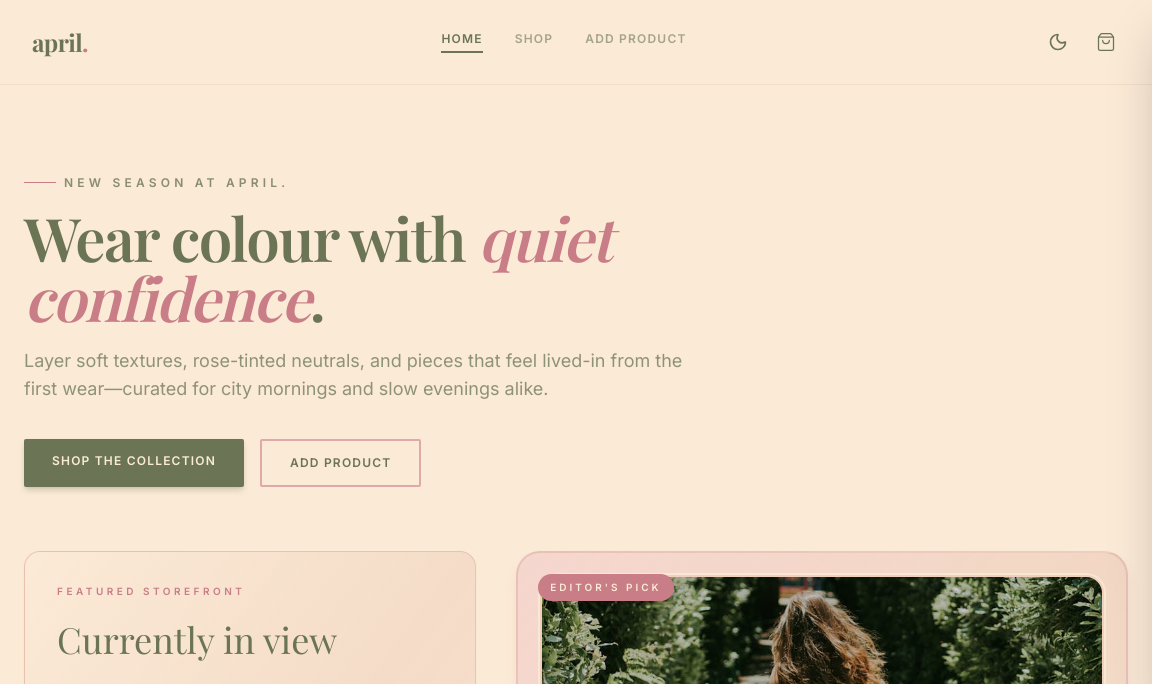
Test: App routing and product pages › renders home page and navigates between routes
The width and height of the screenshot is (1152, 684).
Expected: the text "New season at april." is shown, [64,174,289,190]
Expected: the link "Shop the collection" is shown, [24,438,244,486]
Click the link "Shop" at [534, 42], box [515,31,553,53]
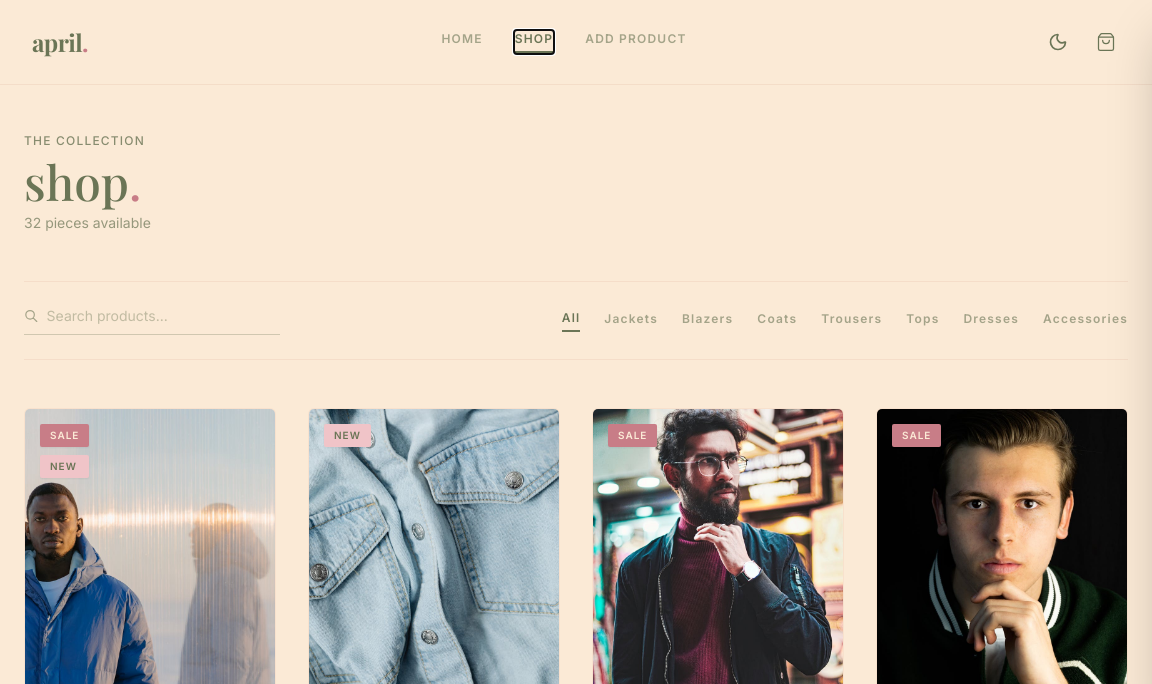
Now the heading "shop." is shown, box [24,149,141,213]
Click the link "Add Product" at [636, 42], box [585,31,686,53]
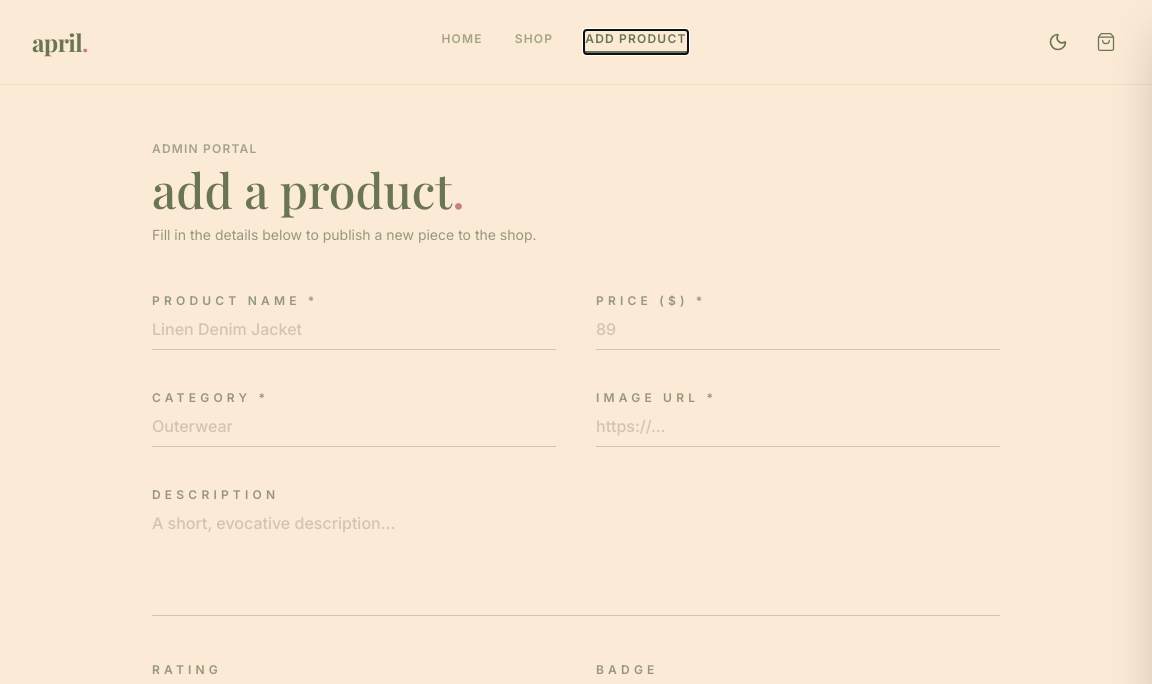
Now the heading "Add a product." is shown, box [152,157,465,221]
